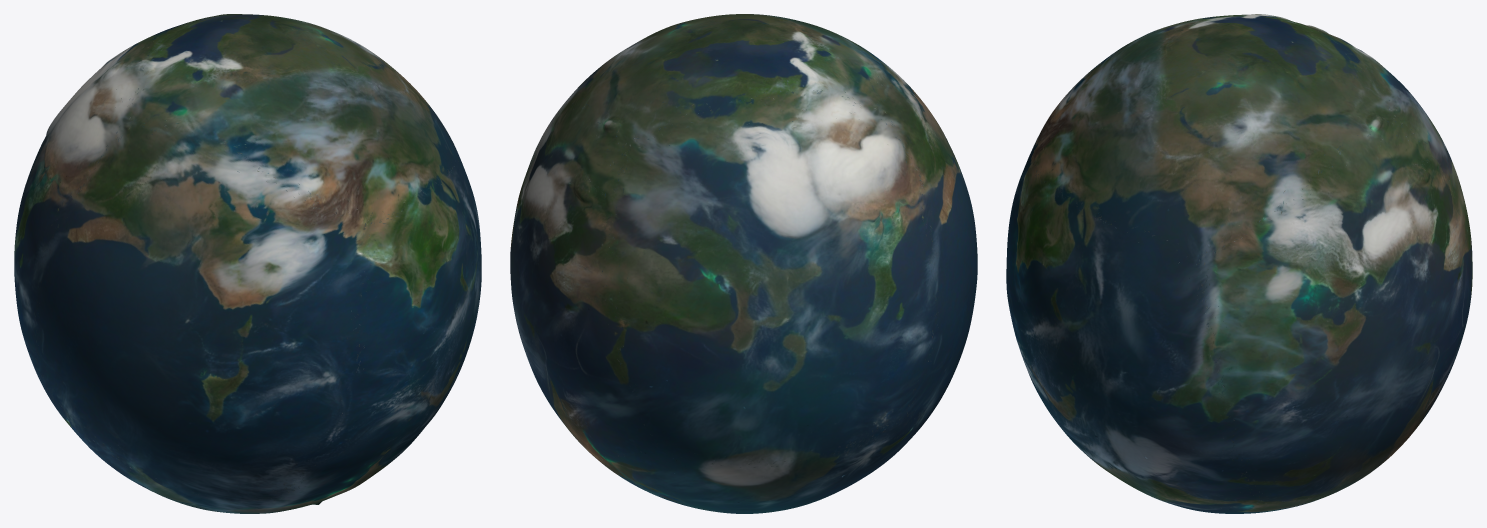
File: Meshy_AI_A_hyper_realistic_hi_0325102523_texture.glb
3 views of the same model, side by side, from view 1: azimuth 30°, elevation 25°; view 2: azimuth 150°, elevation 25°; view 3: azimuth 270°, elevation 25° (orthographic).
Size of the model in its own units: 1.85 by 2.01 by 1.85.
1 material, 1 textured.
